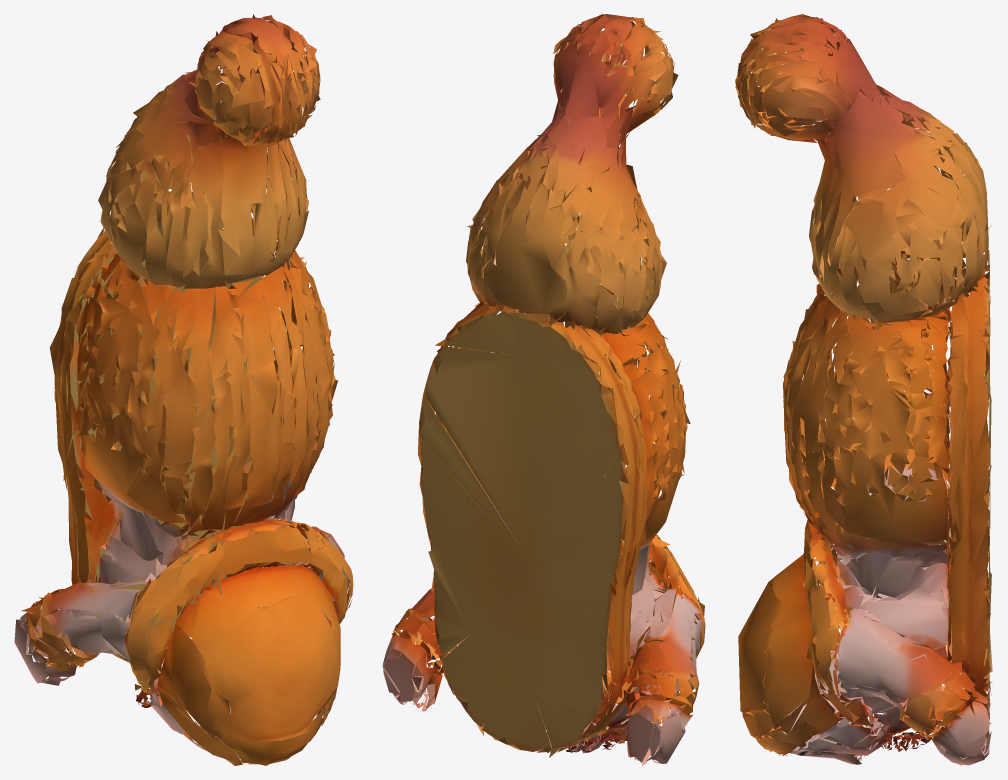
The model's file is hero_monk_toon.glb.
3 views of the same model, side by side, from view 1: azimuth 30°, elevation 25°; view 2: azimuth 150°, elevation 25°; view 3: azimuth 270°, elevation 25° (orthographic). The views are drawn at different scales.
Parts seen in each view (by area): view 1: HeroMonk.002; view 2: HeroMonk.002; view 3: HeroMonk.002.
Part boxes in pixels (x1=…): HeroMonk.002: x1=14, y1=14, x2=353, y2=765; HeroMonk.002: x1=382, y1=14, x2=705, y2=765; HeroMonk.002: x1=734, y1=14, x2=992, y2=765.
Bounding box in the file's own units: 0.8212 × 1.89 × 0.5991.
1 material, 1 textured.
